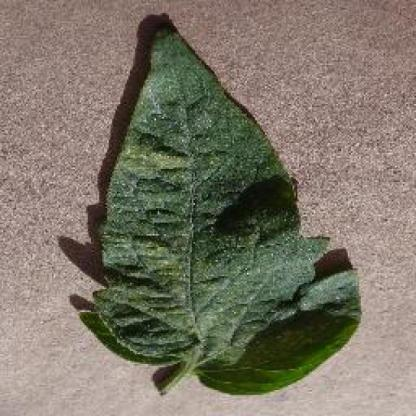Tomato_Spider_Mites: (96, 31, 361, 375)
